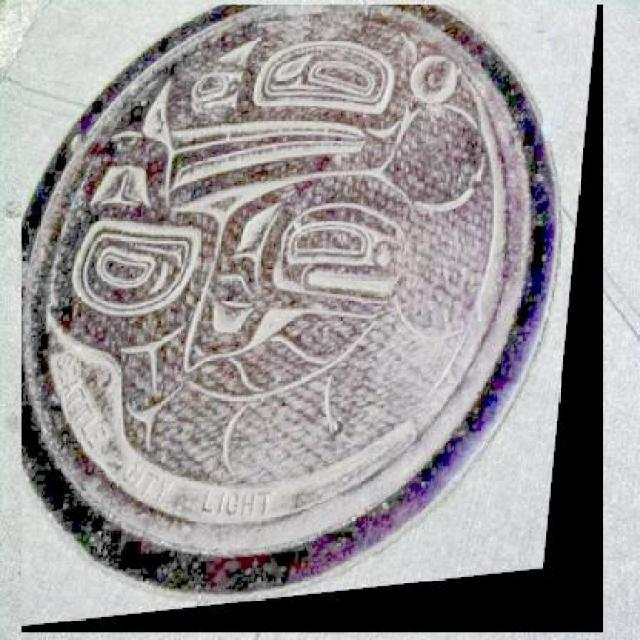Manhole: (22, 6, 604, 634)
